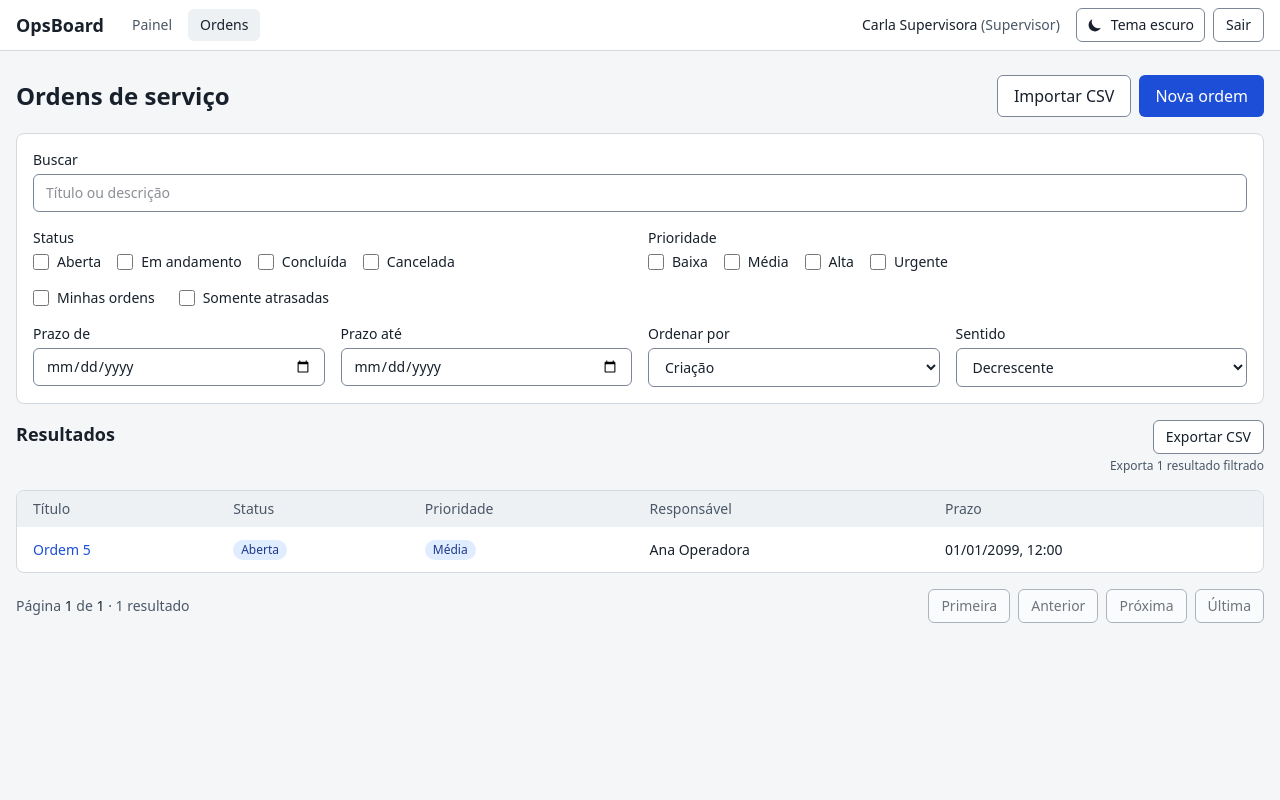
Scenario: quem vê a importação › supervisor vê "Importar CSV" na lista, que leva à tela
The width and height of the screenshot is (1280, 800).
What coordinates should you click on to do the following:
click the link "Importar CSV"
I would click on:
 (1064, 96)
Its box is [997,75,1131,117].
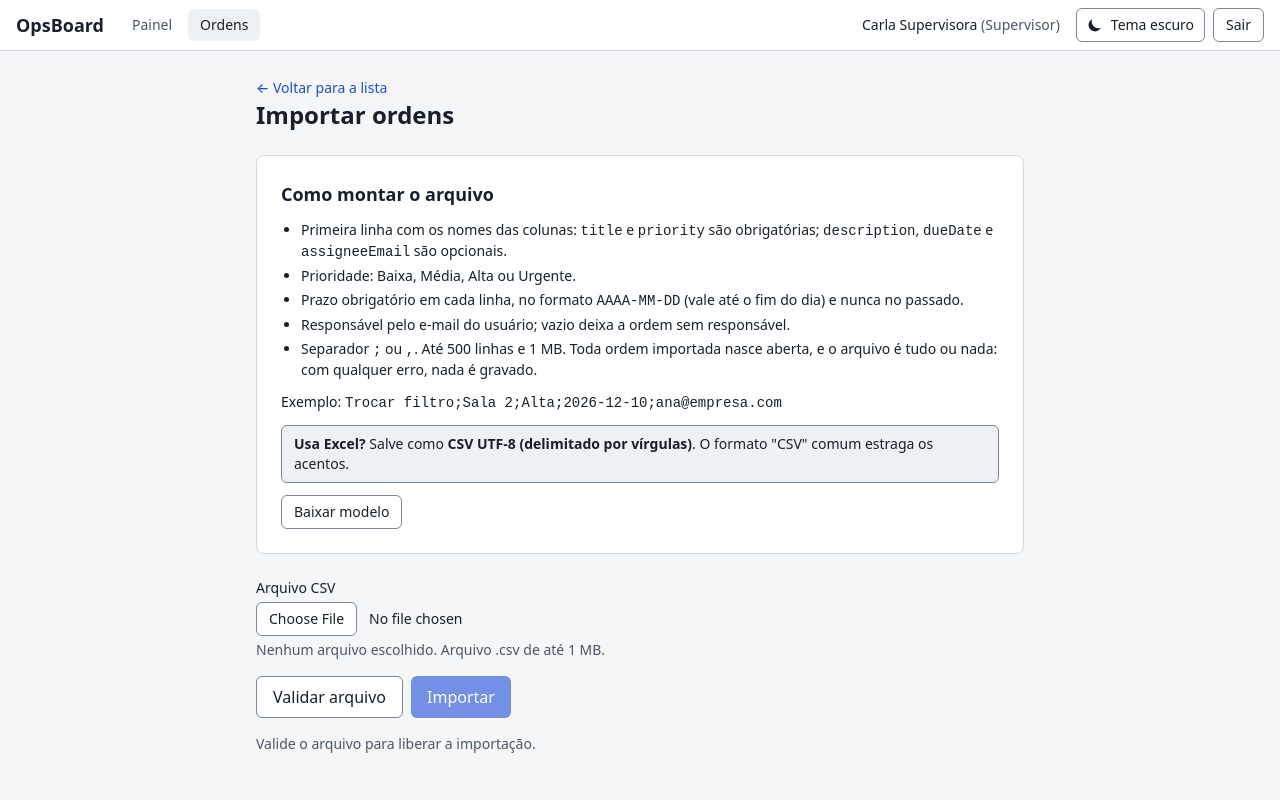
Now the file field labelled "Arquivo CSV" is shown, box [256,602,1024,636]
